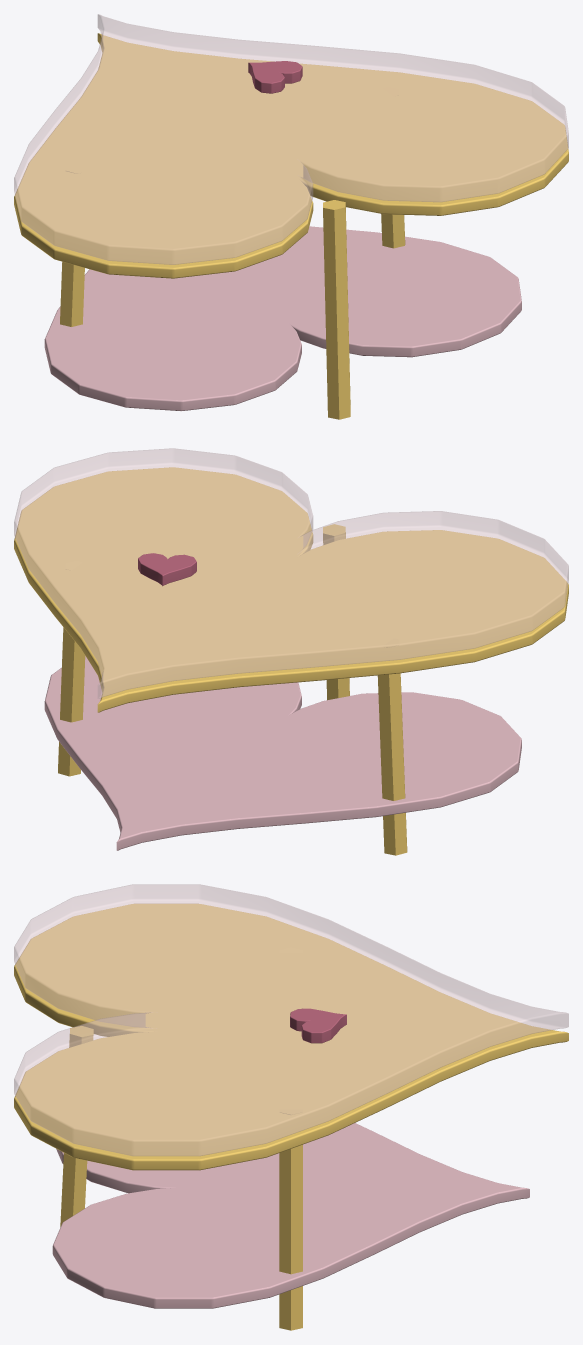
File: coffee_table_heart.glb
3 views of the same model, one above another, from view 1: azimuth 30°, elevation 25°; view 2: azimuth 150°, elevation 25°; view 3: azimuth 270°, elevation 25° (orthographic). The views are drawn at different scales.
Visible parts, largest first — view 1: coffee_table_heart; view 2: coffee_table_heart; view 3: coffee_table_heart.
Boxes of the visible parts, bbox=[...] form: coffee_table_heart: bbox=[14, 14, 568, 419]; coffee_table_heart: bbox=[14, 448, 568, 855]; coffee_table_heart: bbox=[14, 884, 568, 1330].
Size of the model in its own units: 0.9873 by 0.4509 by 0.9015.
